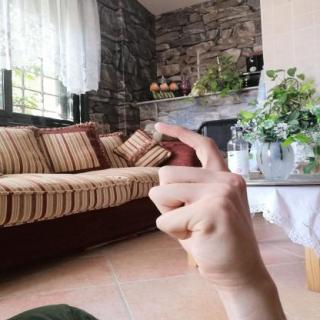RAA: (137, 115, 269, 285)
